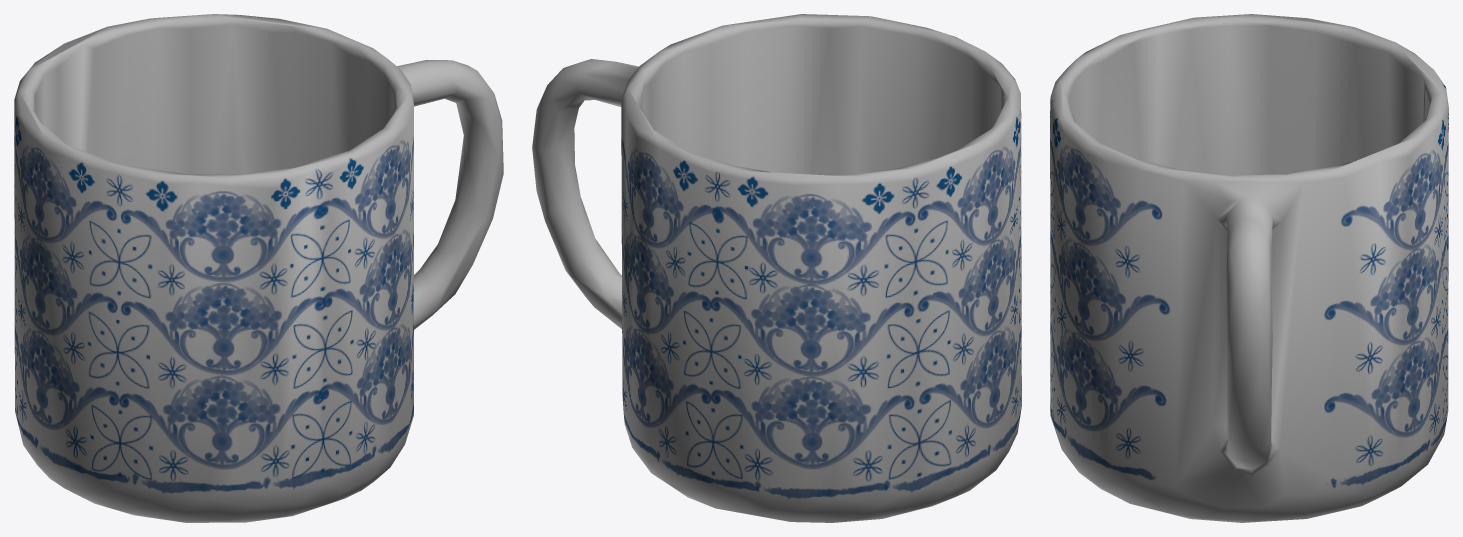
File: Mug.fbx
3 views of the same model, side by side, from view 1: azimuth 30°, elevation 25°; view 2: azimuth 150°, elevation 25°; view 3: azimuth 270°, elevation 25° (orthographic).
Parts seen in each view (by area): view 1: Cylinder; view 2: Cylinder; view 3: Cylinder.
Boxes of the visible parts, x1=… form: Cylinder: x1=14, y1=14, x2=503, y2=522; Cylinder: x1=532, y1=14, x2=1021, y2=522; Cylinder: x1=1050, y1=14, x2=1448, y2=522.
Size of the model in its own units: 26.3 by 19.96 by 19.8.
Materials: 1 (1 with a texture image).
